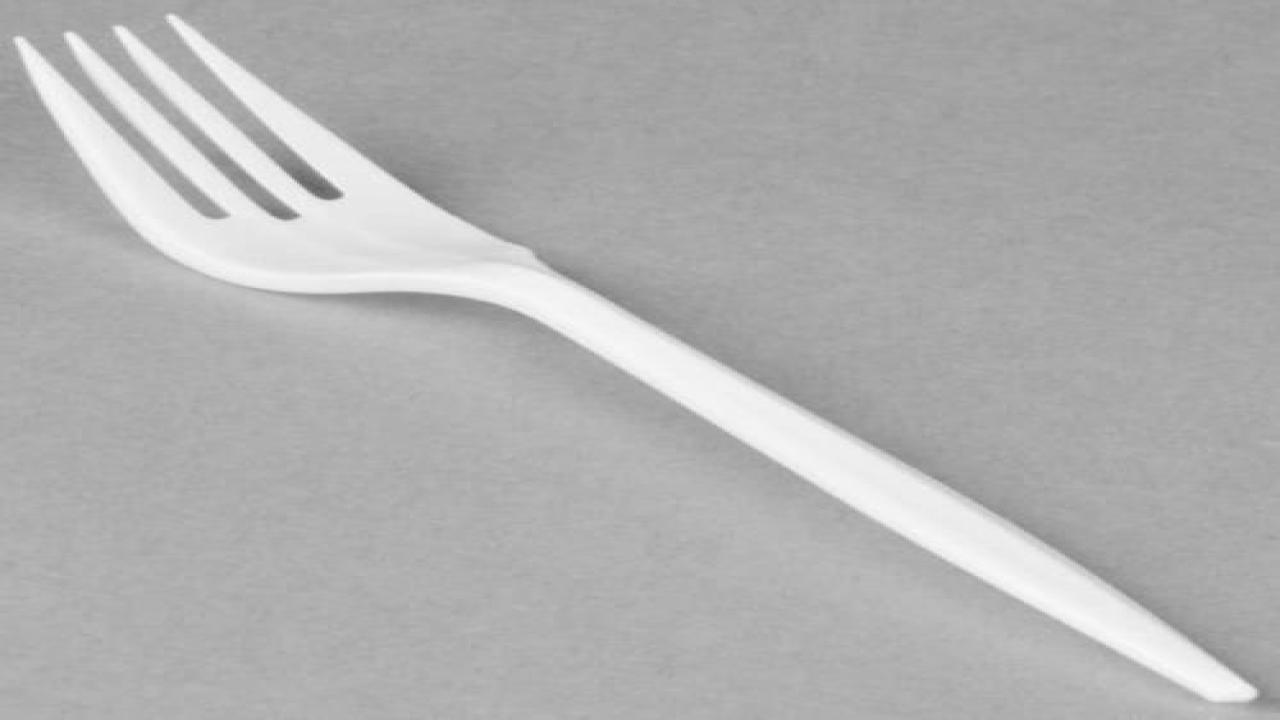fork: (10, 12, 1262, 704)
